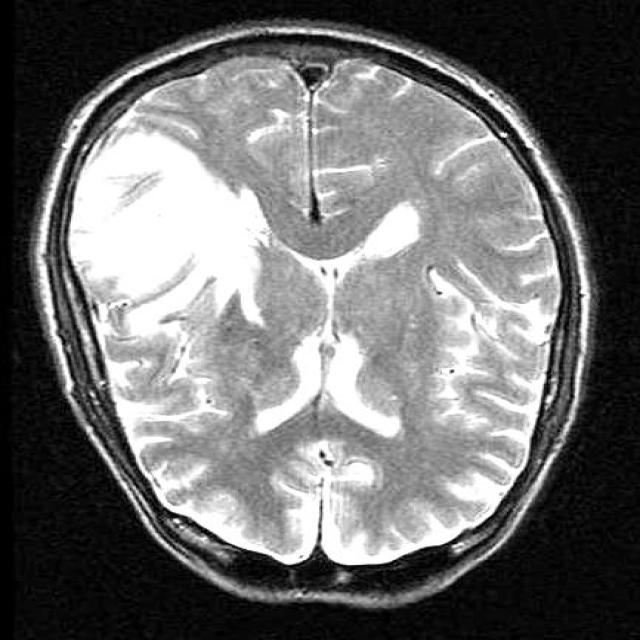Tumor-Cell: (72, 124, 275, 346)
